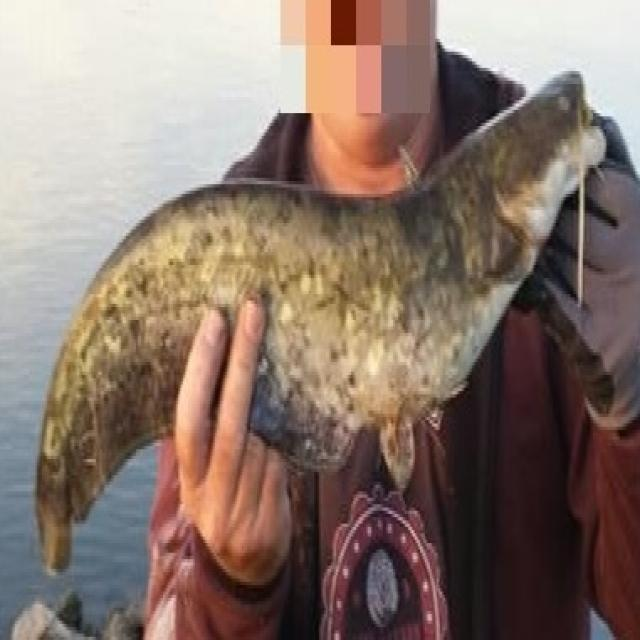Catfish: (26, 81, 616, 606)
